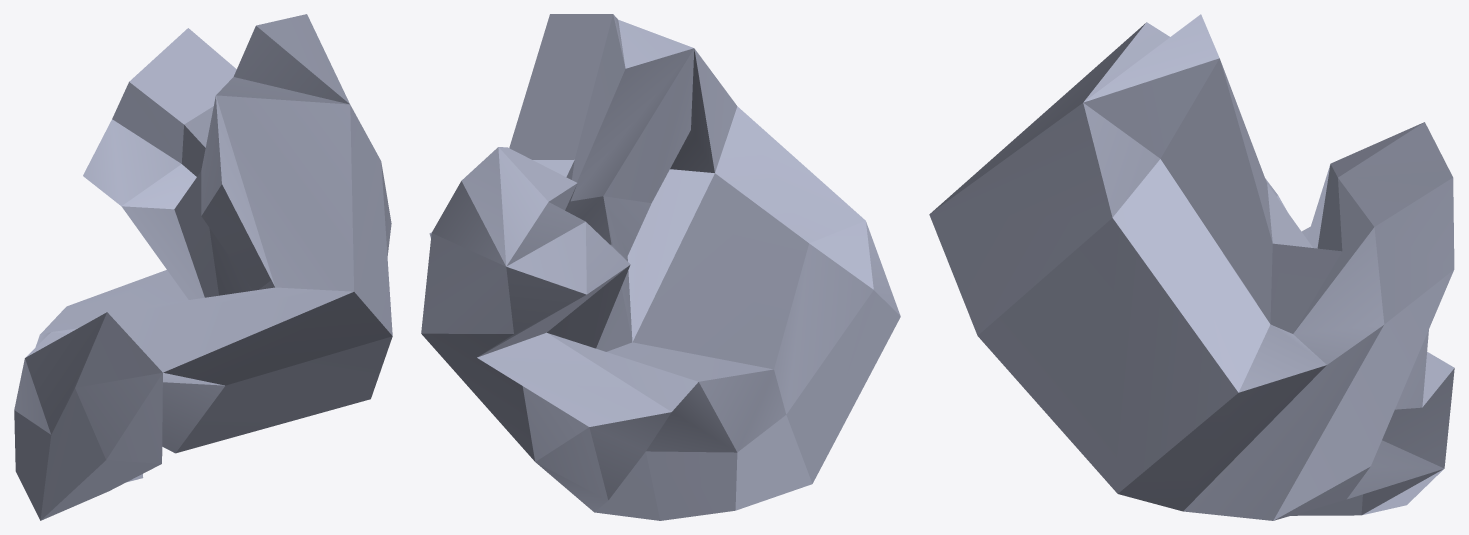
The model's file is SM_Prop_Snack_04.obj.
3 views of the same model, side by side, from view 1: azimuth 30°, elevation 25°; view 2: azimuth 150°, elevation 25°; view 3: azimuth 270°, elevation 25° (orthographic). The views are drawn at different scales.
Visible parts, largest first — view 1: SM_Prop_Snack_04_0; view 2: SM_Prop_Snack_04_0; view 3: SM_Prop_Snack_04_0.
Boxes of the visible parts, x1=… form: SM_Prop_Snack_04_0: x1=14, y1=14, x2=392, y2=520; SM_Prop_Snack_04_0: x1=421, y1=14, x2=900, y2=520; SM_Prop_Snack_04_0: x1=929, y1=14, x2=1454, y2=520.
Bounding box in the file's own units: 0.1494 × 0.1733 × 0.1513.
